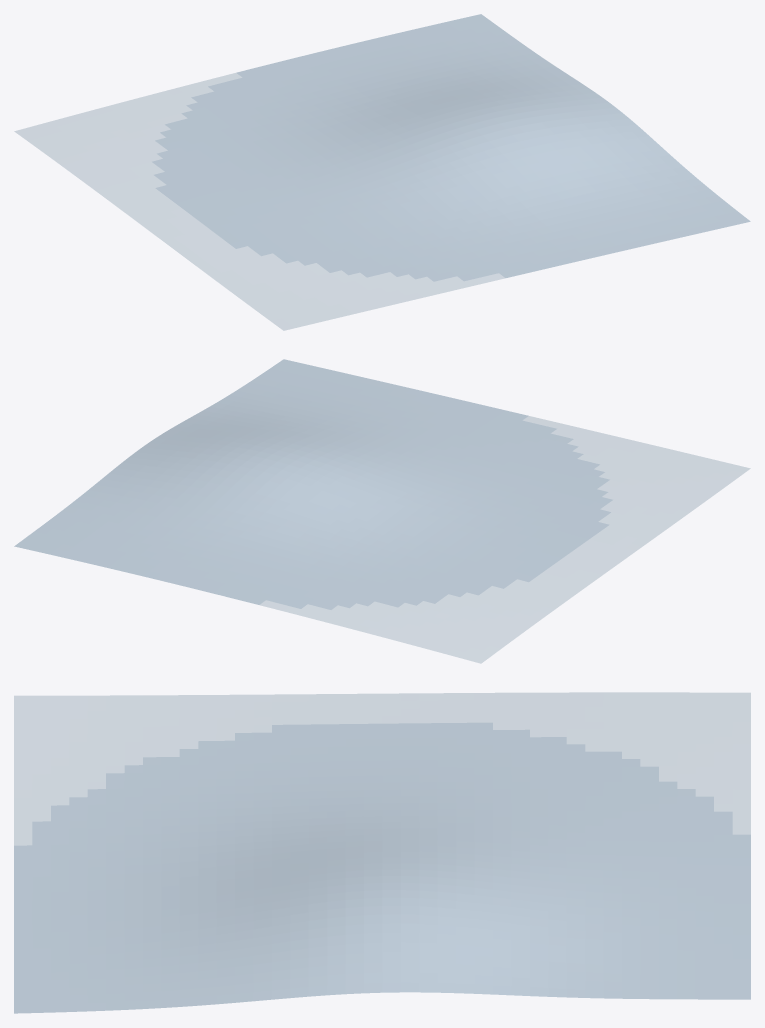
Rendered from Ground_-4_2.fbx.
The picture shows the model from 3 angles, top to bottom: view 1: azimuth 30°, elevation 25°; view 2: azimuth 150°, elevation 25°; view 3: azimuth 270°, elevation 25°; orthographic projection. The views are drawn at different scales.
Visible parts, largest first — view 1: Ground_-4_2; view 2: Ground_-4_2; view 3: Ground_-4_2.
Boxes of the visible parts, bbox=[...] form: Ground_-4_2: bbox=[14, 14, 750, 330]; Ground_-4_2: bbox=[14, 359, 750, 663]; Ground_-4_2: bbox=[14, 692, 750, 1013].
Size of the model in its own units: 40000 by 2277 by 40000.
